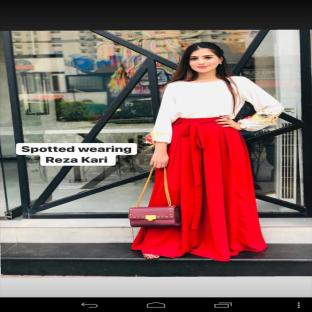Human: (131, 42, 284, 261)
